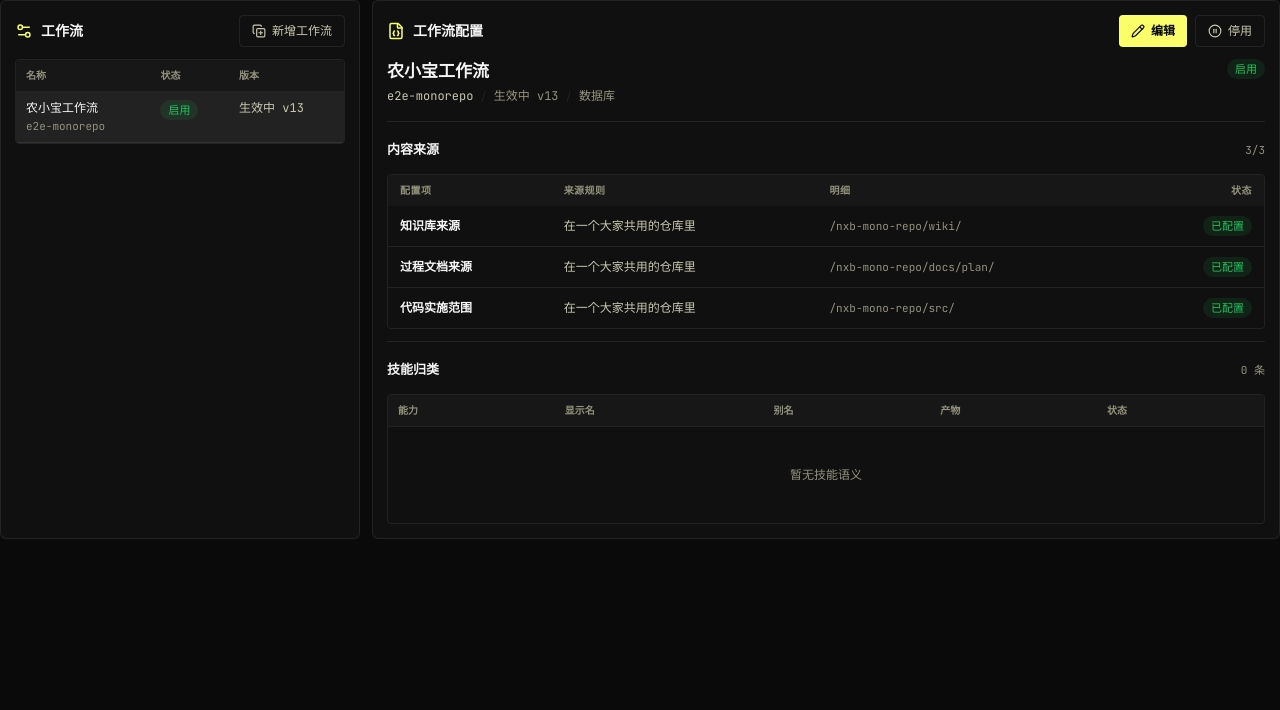
it: ProfileConfigAdminPage redesign behavior › switches to publish and cancel actions only while editing
Click the button "编辑".
click(1153, 31)  # box [1119, 15, 1187, 47]
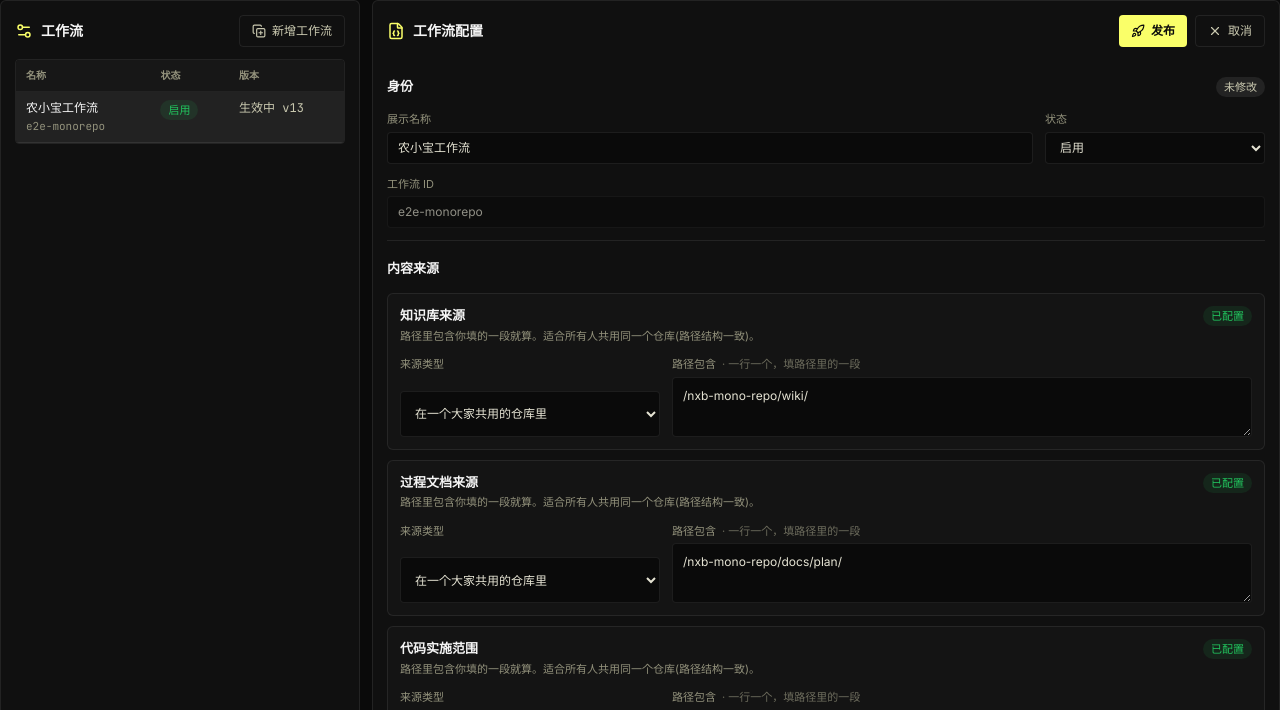
Now the button "发布" is shown, box [1119, 15, 1187, 47]
Now the button "取消" is shown, box [1195, 15, 1265, 47]
Now the button "编辑" is gone
